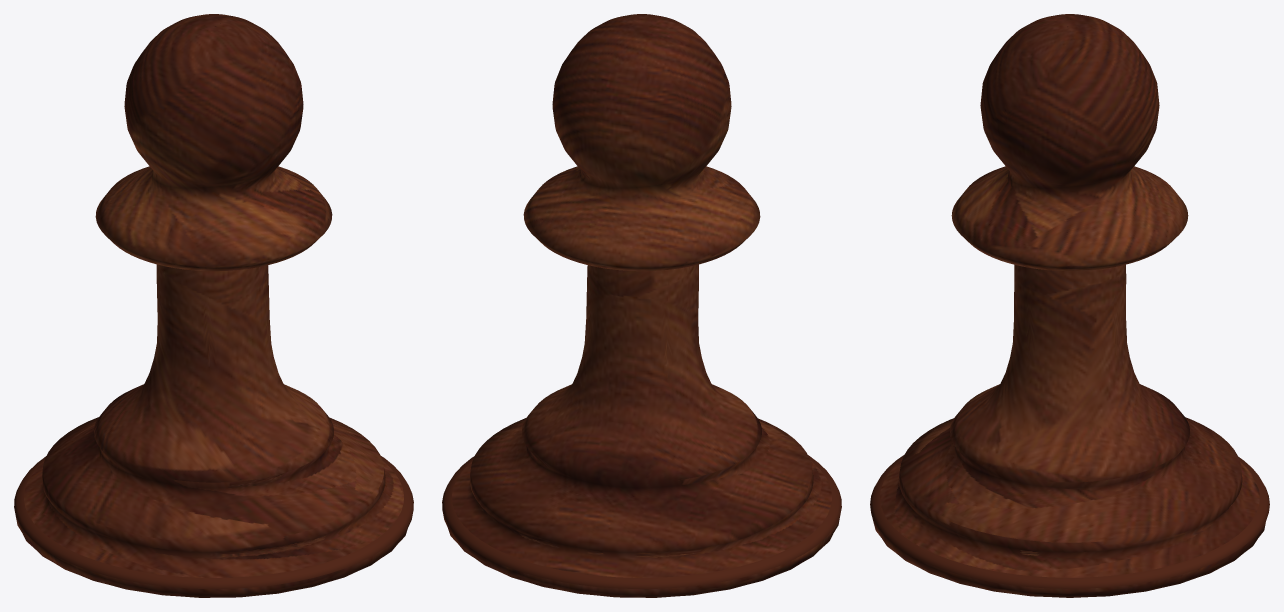
File: pawn_black.glb
3 renders of one model, left to right at view 1: azimuth 30°, elevation 25°; view 2: azimuth 150°, elevation 25°; view 3: azimuth 270°, elevation 25°, orthographic.
Visible parts, largest first — view 1: Cylinder; view 2: Cylinder; view 3: Cylinder.
Boxes of the visible parts, left/top/right/bottom form: Cylinder: left=14, top=14, right=413, bottom=597; Cylinder: left=442, top=14, right=841, bottom=597; Cylinder: left=870, top=14, right=1269, bottom=597.
Bounding box in the file's own units: 0.498 × 0.6946 × 0.498.
Materials: 1 (1 with a texture image).
